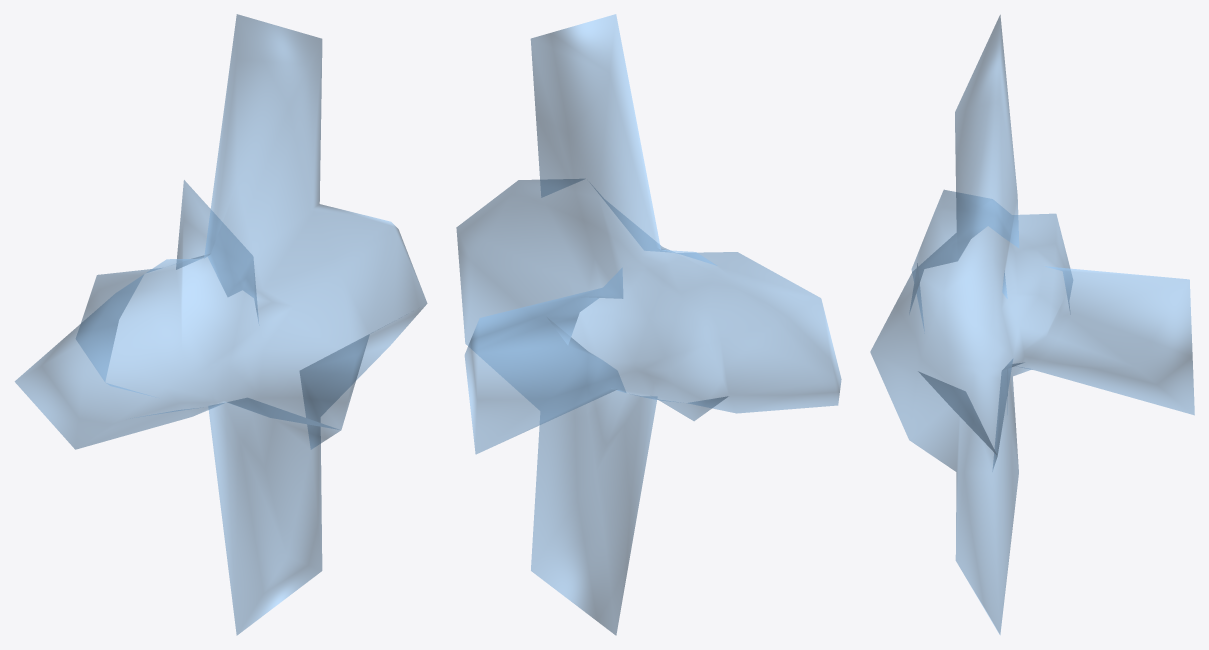
The model's file is tsquadron_shield.gltf.
3 renders of one model, left to right at view 1: azimuth 30°, elevation 25°; view 2: azimuth 150°, elevation 25°; view 3: azimuth 270°, elevation 25°, orthographic.
Parts seen in each view (by area): view 1: tsquadron.shield; view 2: tsquadron.shield; view 3: tsquadron.shield.
Part boxes in pixels (x1,y1,x2,y2): tsquadron.shield: (15, 14, 427, 635); tsquadron.shield: (456, 14, 841, 635); tsquadron.shield: (870, 15, 1194, 634).
Bounding box in the file's own units: 22.47 × 34.26 × 16.21.
